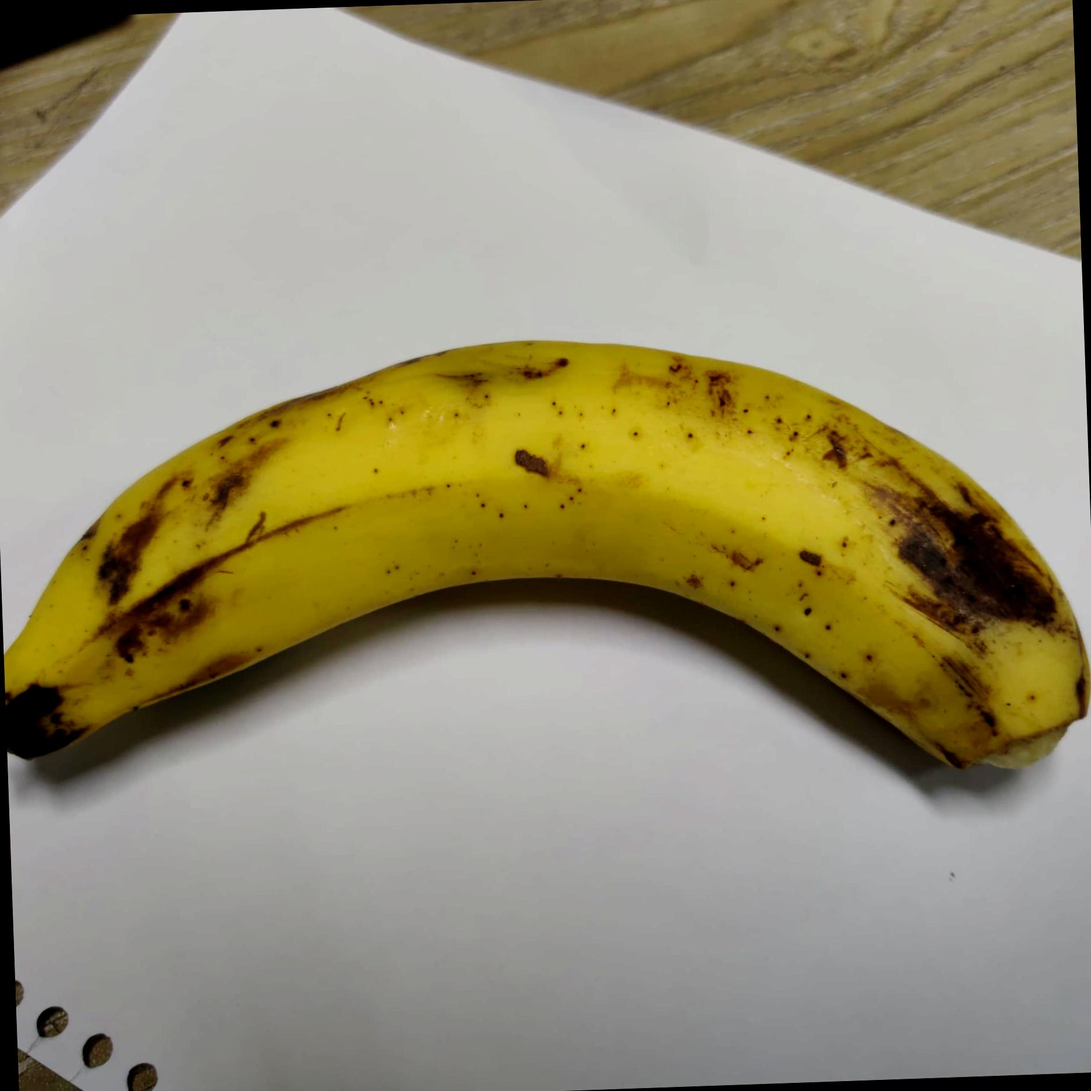Banana Ripe: (0, 292, 1091, 861)
